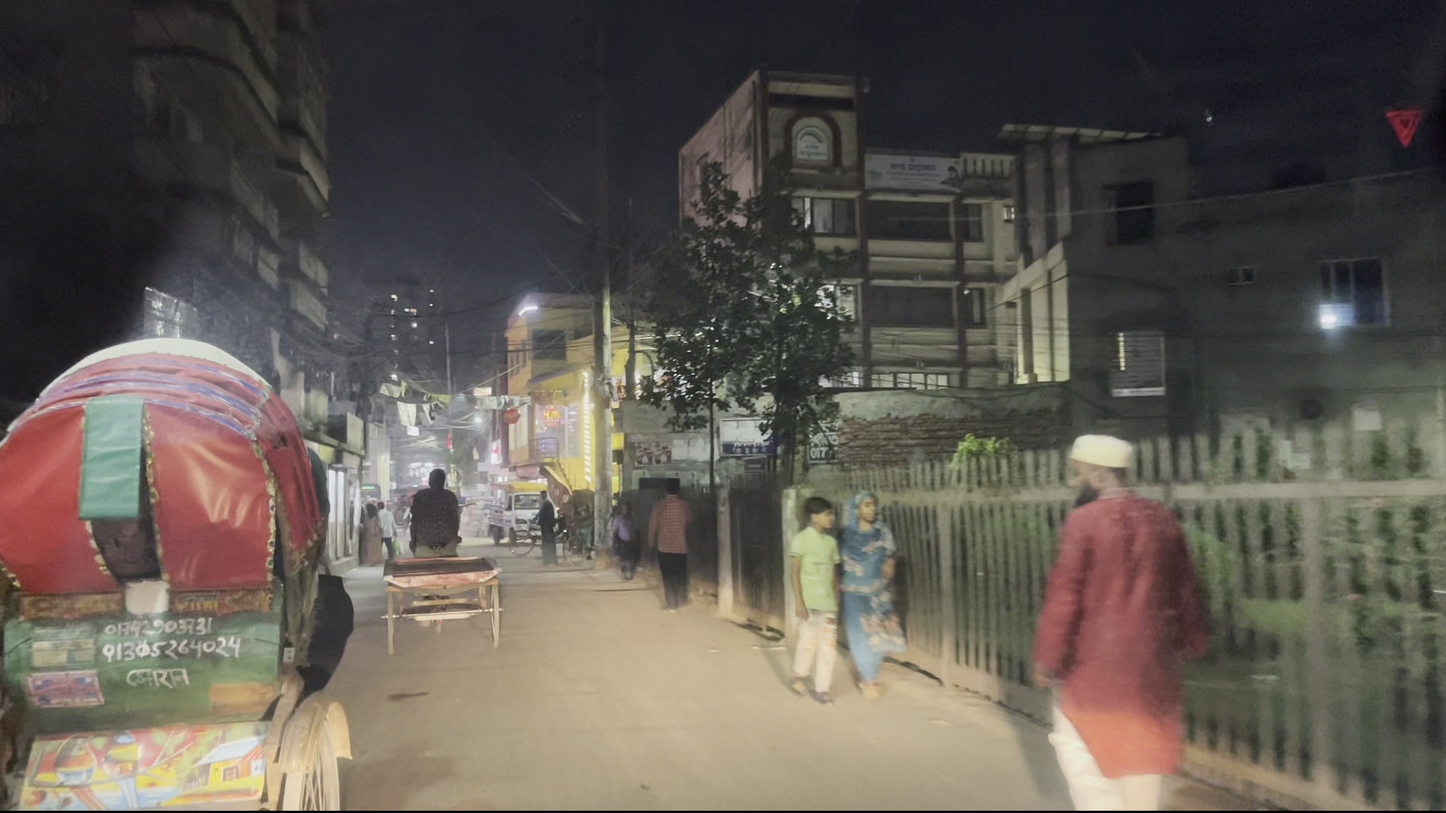person: (1014, 420, 1209, 808), (785, 492, 850, 708), (844, 486, 908, 695), (648, 476, 694, 615), (610, 501, 641, 583), (374, 498, 404, 567)
